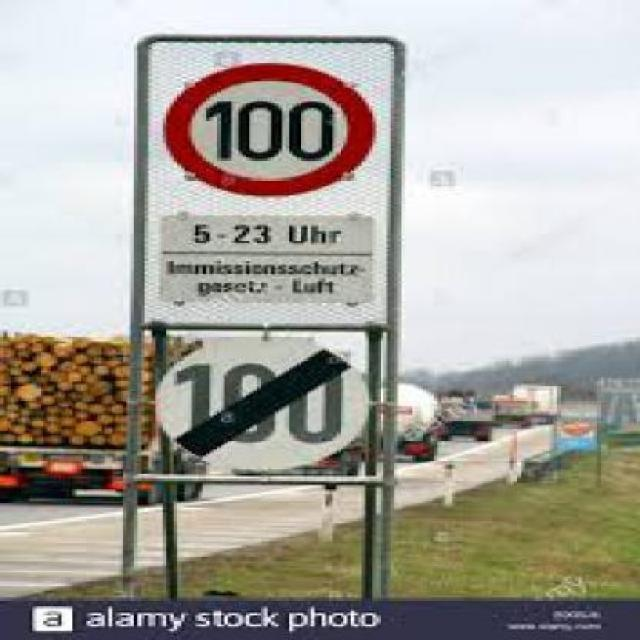forb_speed_over_100: (167, 62, 373, 196)
